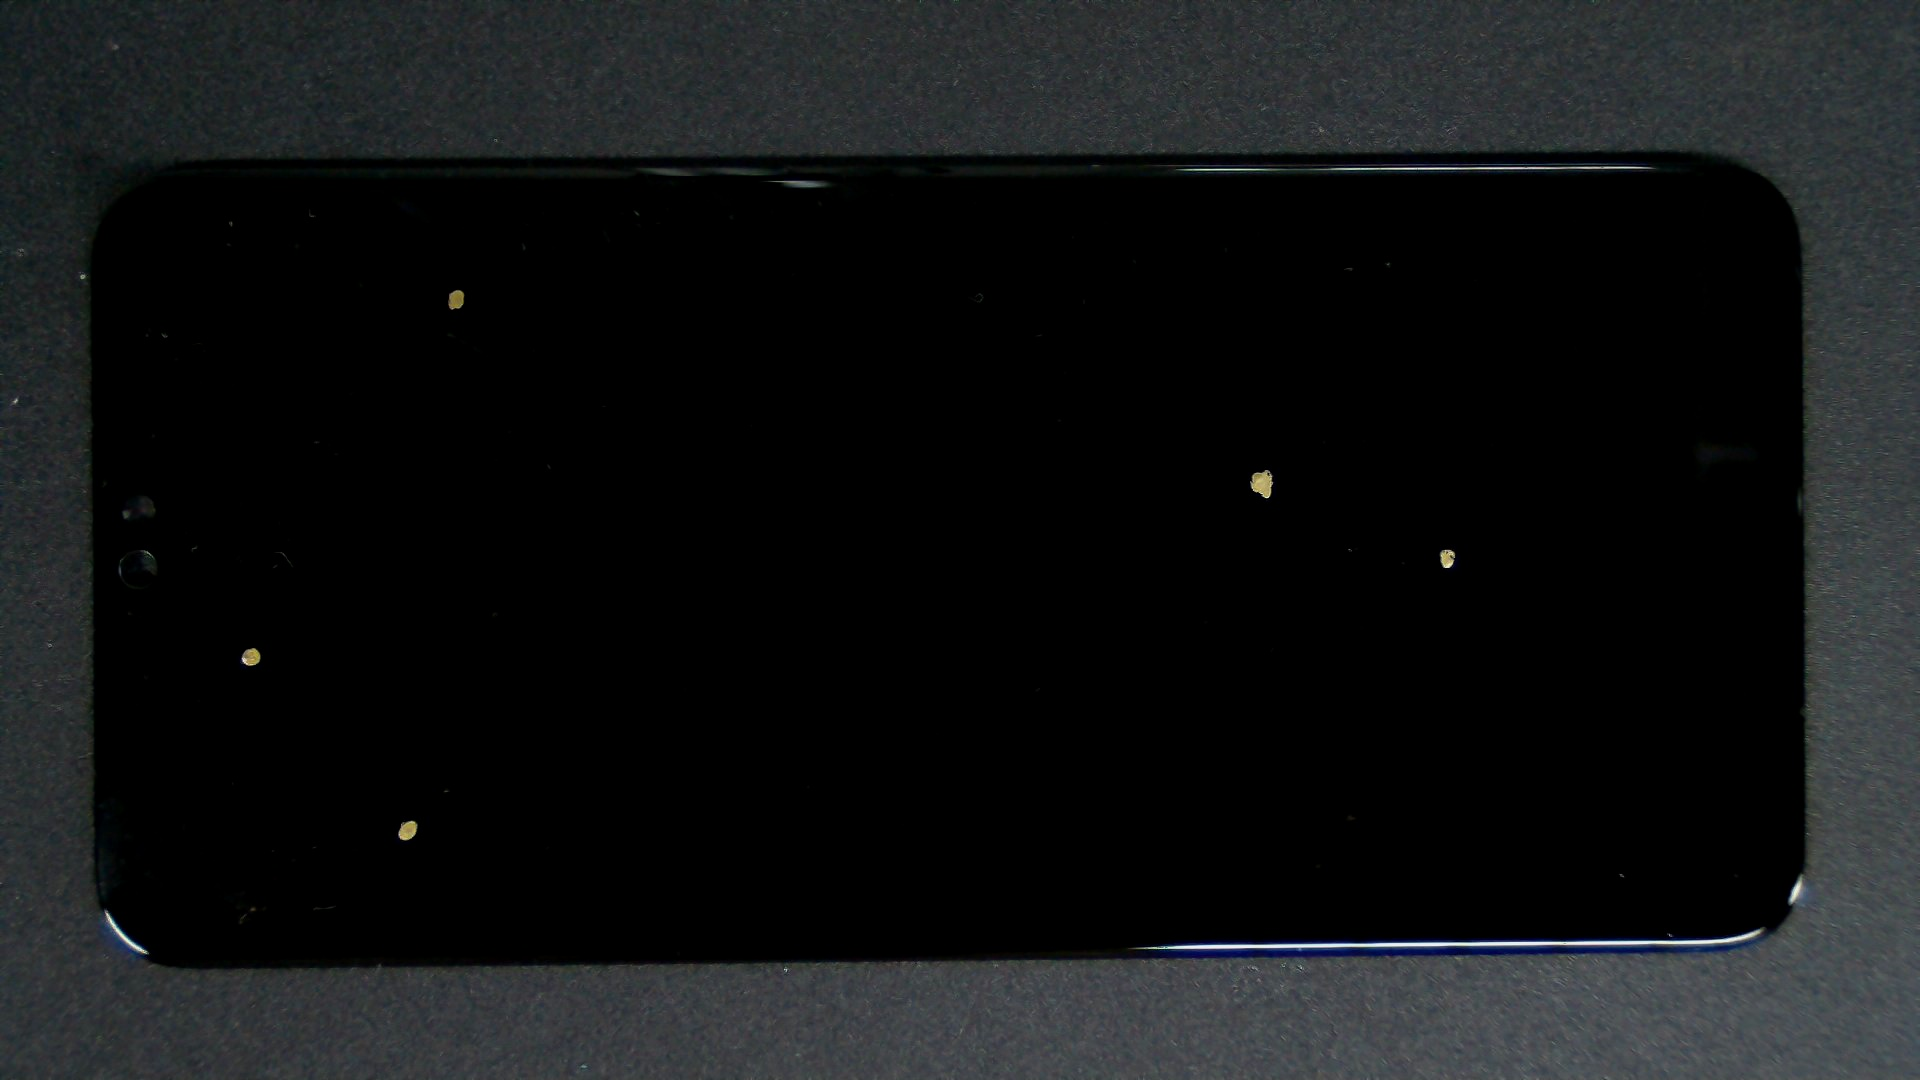oil: (725, 273, 1920, 823), (633, 233, 1895, 704), (206, 410, 615, 1080), (127, 323, 376, 971), (228, 142, 679, 435)
